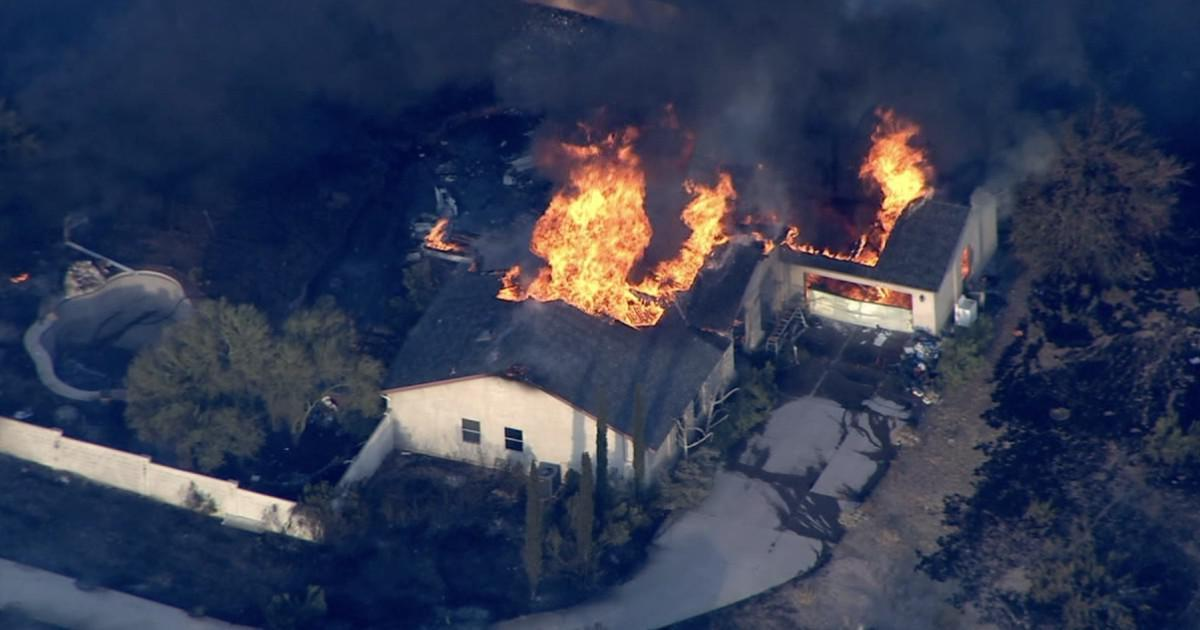Fire: (498, 114, 662, 329), (854, 98, 939, 270), (636, 171, 738, 297), (428, 216, 456, 257), (787, 225, 816, 255), (763, 236, 777, 256), (822, 250, 849, 260)
